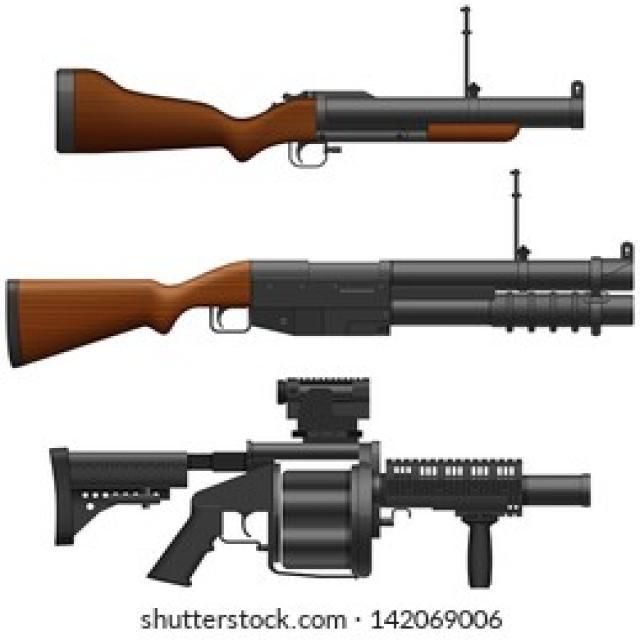rocket launcher: (4, 234, 640, 404), (42, 431, 560, 596), (47, 56, 626, 169)
scope: (251, 356, 423, 434)
